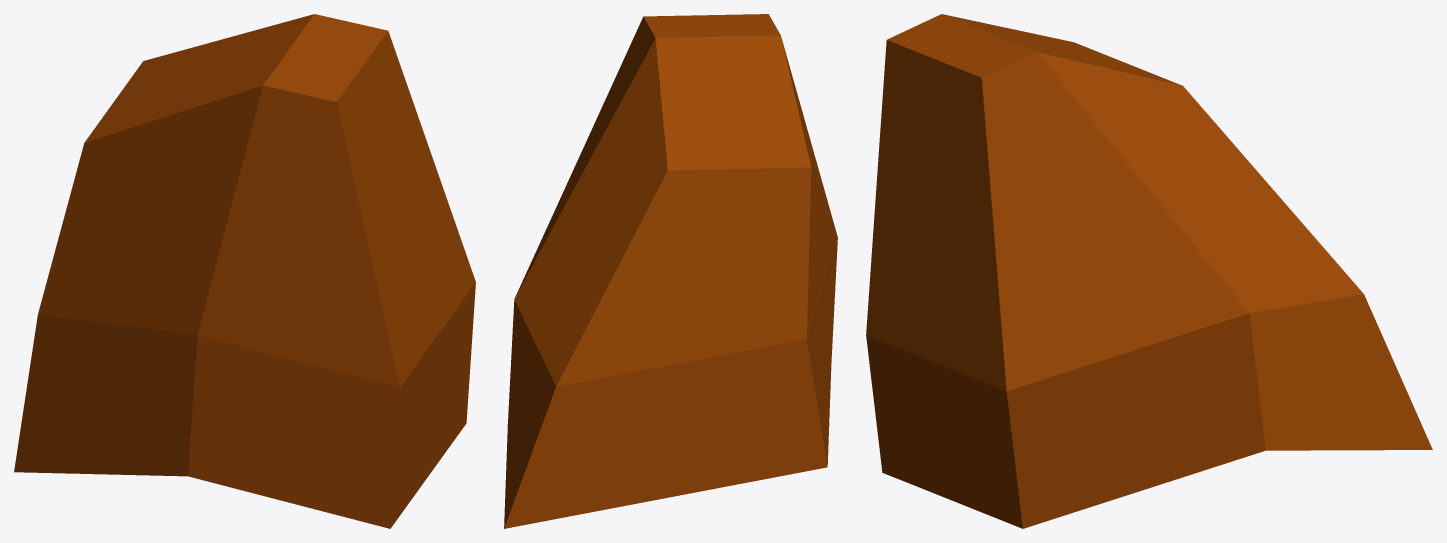
File: Block2.fbx
3 renders of one model, left to right at view 1: azimuth 30°, elevation 25°; view 2: azimuth 150°, elevation 25°; view 3: azimuth 270°, elevation 25°, orthographic. The views are drawn at different scales.
Parts seen in each view (by area): view 1: Sphere.014; view 2: Sphere.014; view 3: Sphere.014.
Part boxes in pixels (<box>): Sphere.014: <box>14,14,475,528</box>; Sphere.014: <box>504,14,837,528</box>; Sphere.014: <box>866,14,1432,528</box>.
Size of the model in its own units: 238 by 257 by 311.
